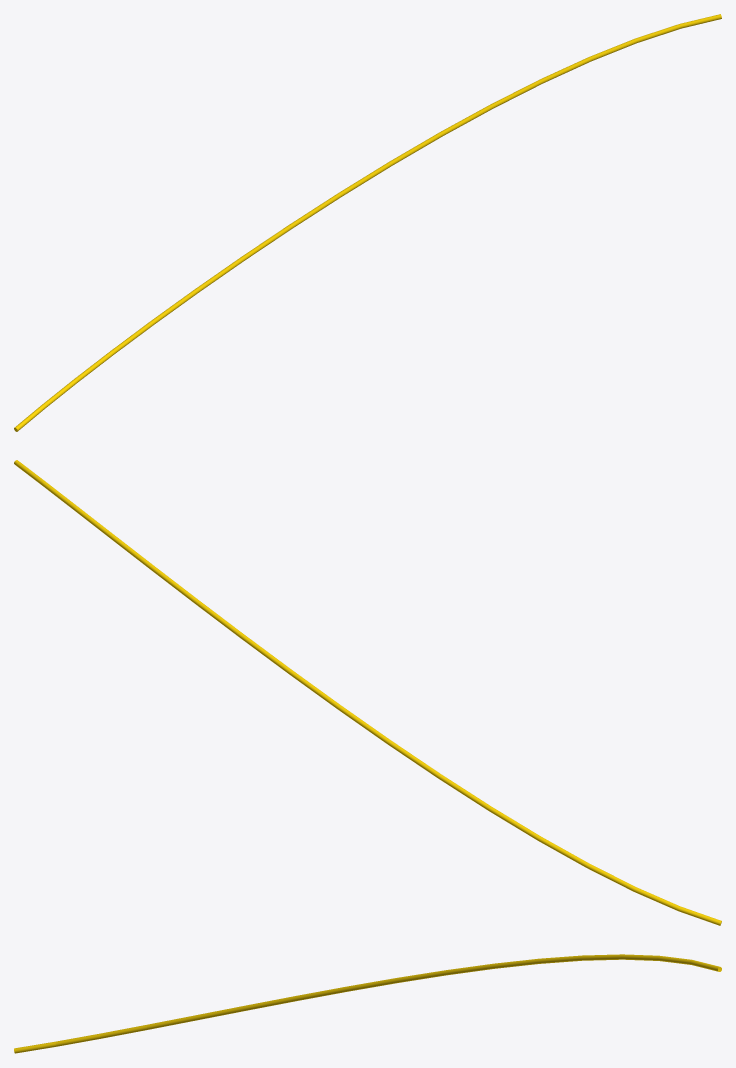
File: Event_421127236_track_13.fbx
3 renders of one model, top to bottom at view 1: azimuth 30°, elevation 25°; view 2: azimuth 150°, elevation 25°; view 3: azimuth 330°, elevation 25°, orthographic. The views are drawn at different scales.
Parts seen in each view (by area): view 1: Model; view 2: Model; view 3: Model.
Part boxes in pixels (x1=…): Model: x1=14, y1=14, x2=721, y2=431; Model: x1=14, y1=460, x2=721, y2=925; Model: x1=14, y1=954, x2=721, y2=1053.
Size of the model in its own units: 6.3 by 2.29 by 0.6422.
